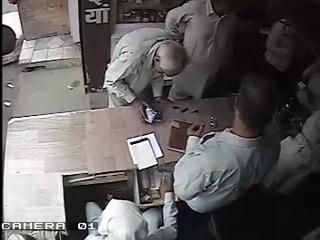Normal: (172, 73, 288, 239), (164, 0, 265, 102), (102, 27, 188, 117)
